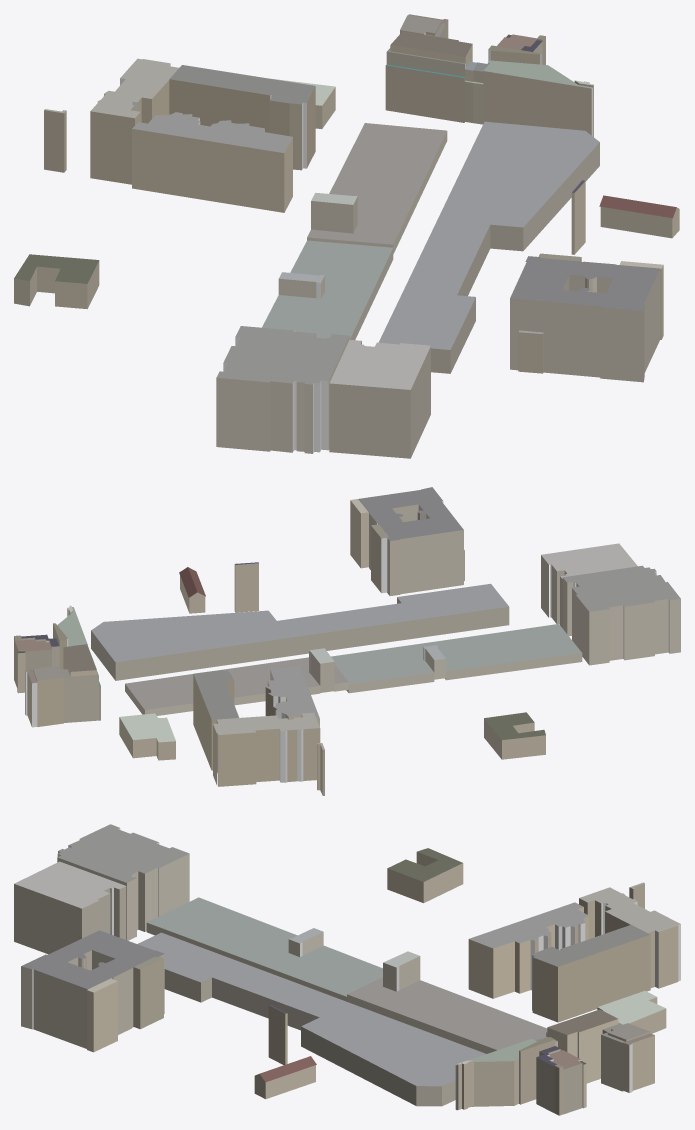
The picture shows the model from 3 angles, top to bottom: view 1: azimuth 30°, elevation 25°; view 2: azimuth 150°, elevation 25°; view 3: azimuth 270°, elevation 25°; orthographic projection. The views are drawn at different scales.
Visible parts, largest first — view 1: tuile; view 2: tuile; view 3: tuile.
Boxes of the visible parts, x1,y1,x2,y2 form: tuile: (14, 14, 679, 458); tuile: (14, 487, 680, 795); tuile: (14, 824, 680, 1115).
Bounding box in the file's own units: 257 × 35.01 × 289.
